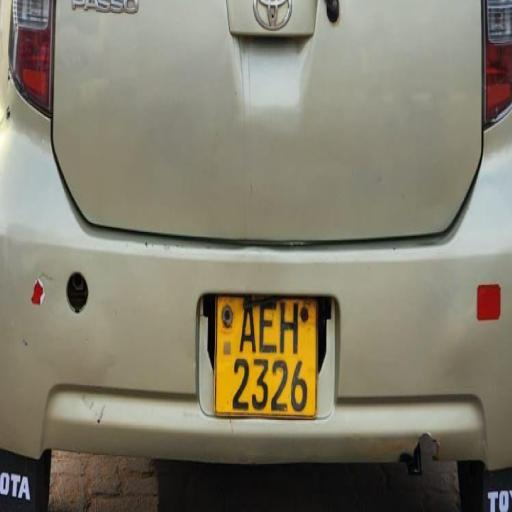number-plates: (216, 288, 308, 421)
